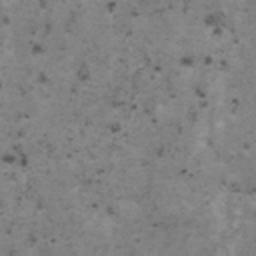Oxide scale of temperature system: (3, 0, 256, 216), (1, 111, 31, 202), (106, 1, 140, 17), (27, 230, 58, 246)
